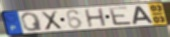6: (65, 9, 85, 30)
A: (132, 5, 155, 25)
E: (108, 6, 134, 27)
H: (84, 7, 109, 28)
Q: (19, 12, 44, 32)
X: (39, 10, 64, 32)
